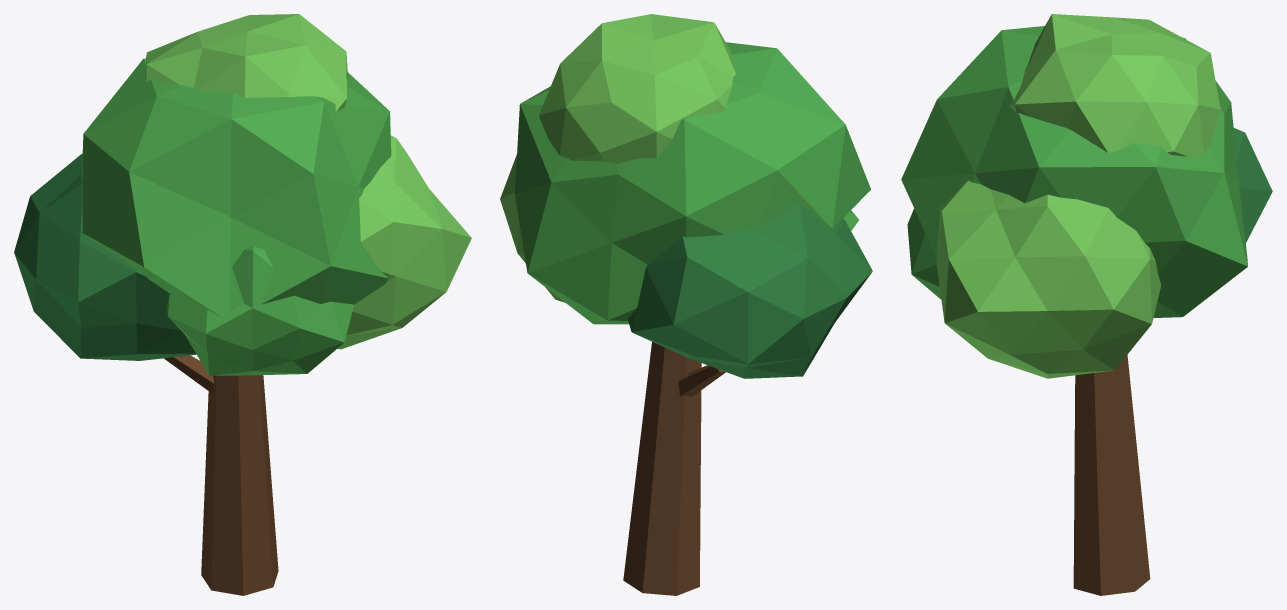
File: Tree_Round.obj
The picture shows the model from 3 angles, left to right: view 1: azimuth 30°, elevation 25°; view 2: azimuth 150°, elevation 25°; view 3: azimuth 270°, elevation 25°; orthographic projection. The views are drawn at different scales.
Visible parts, largest first — view 1: Leaves, LeavesLight, LeavesDark, Trunk; view 2: Leaves, LeavesDark, LeavesLight, Trunk; view 3: LeavesLight, Leaves, Trunk, LeavesDark.
Part boxes in pixels (x1,y1,x2,y2): Leaves: [81, 58, 391, 375]; LeavesLight: [144, 14, 471, 349]; LeavesDark: [14, 153, 196, 360]; Trunk: [164, 355, 278, 595]; Leaves: [515, 42, 870, 324]; LeavesDark: [628, 203, 872, 378]; LeavesLight: [500, 14, 735, 302]; Trunk: [623, 342, 725, 595]; LeavesLight: [936, 14, 1220, 378]; Leaves: [901, 26, 1247, 317]; Trunk: [1073, 355, 1150, 595]; LeavesDark: [1233, 128, 1272, 242].
Size of the model in its own units: 10.5 by 15.24 by 9.21.
